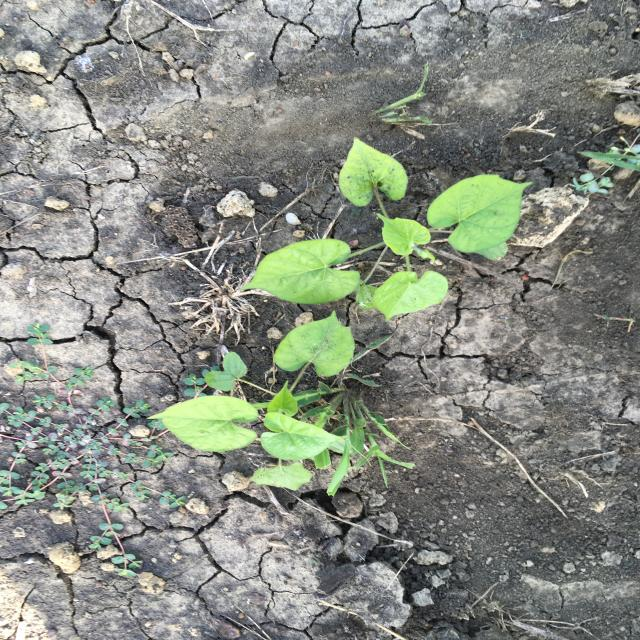MorningGlory: (144, 135, 533, 491)
SpottedSpurge: (3, 319, 223, 583)
